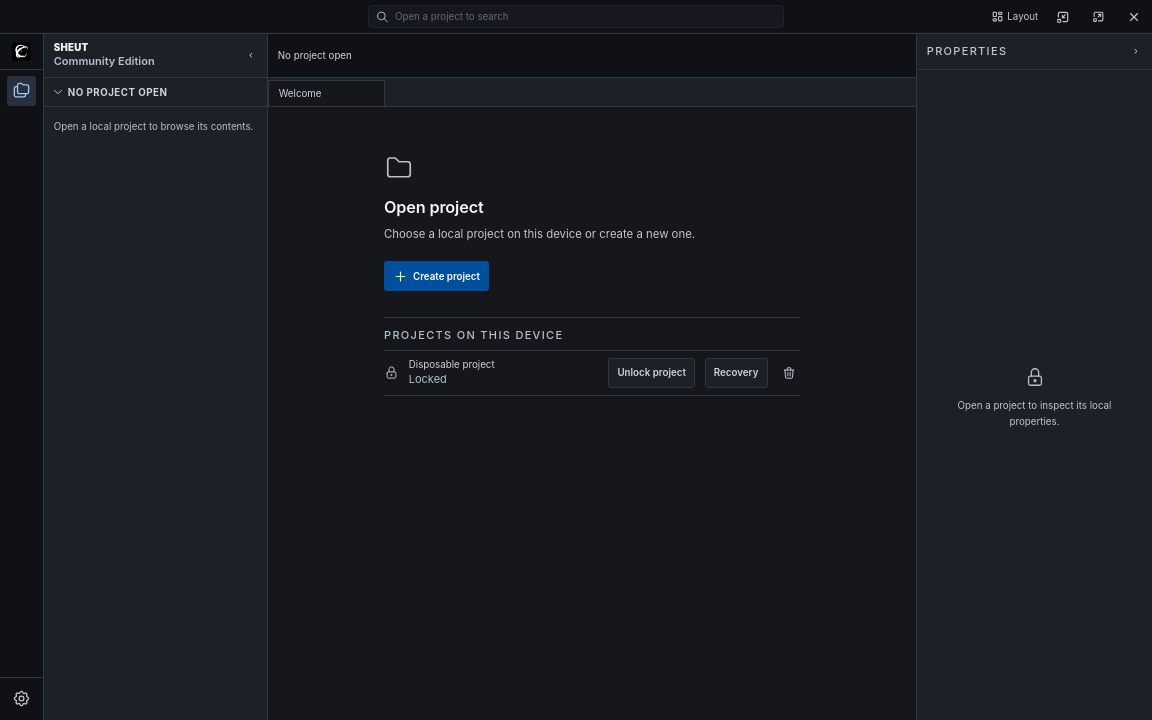
App › deletes a locked project only after its exact name is confirmed
Expected: the text "Disposable project" is shown, left=409, top=359, right=495, bottom=370
Click the button named "Delete Disposable project".
click(789, 373)  # box left=777, top=362, right=800, bottom=384
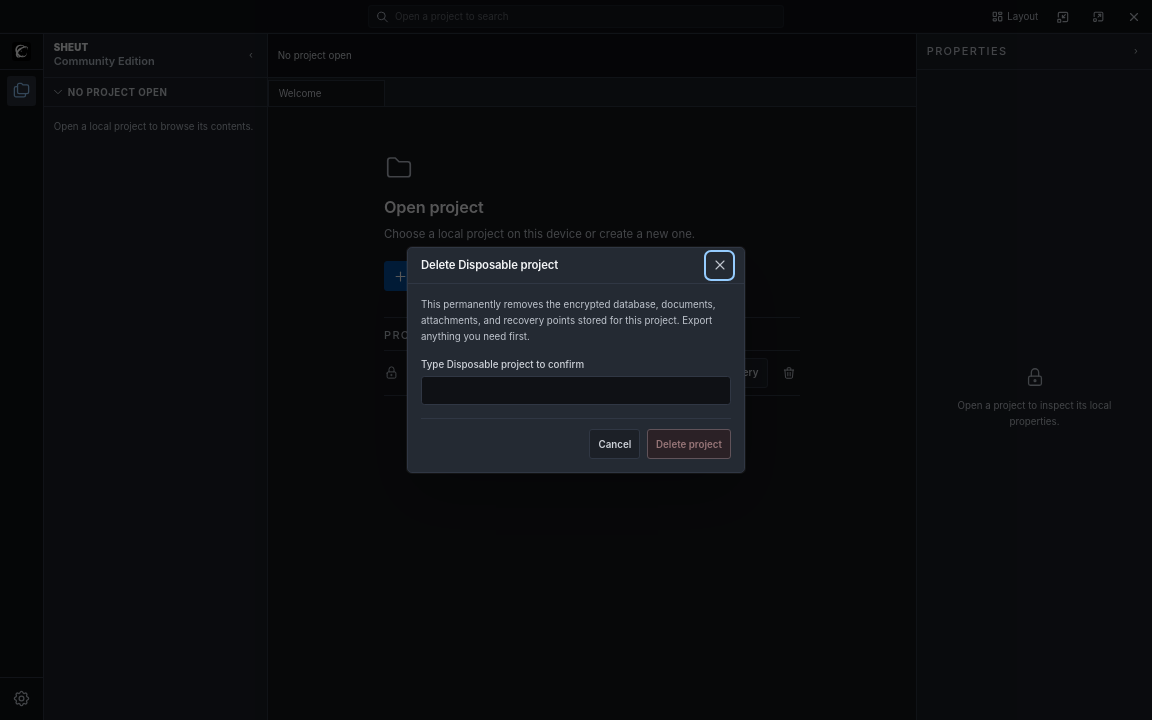
Result: the button "Delete project" is disabled at left=647, top=429, right=731, bottom=459
Type "Disposable project" into the field labelled "Type Disposable project to confirm".
click(576, 391); type("Disposable project")  # box left=421, top=376, right=731, bottom=406
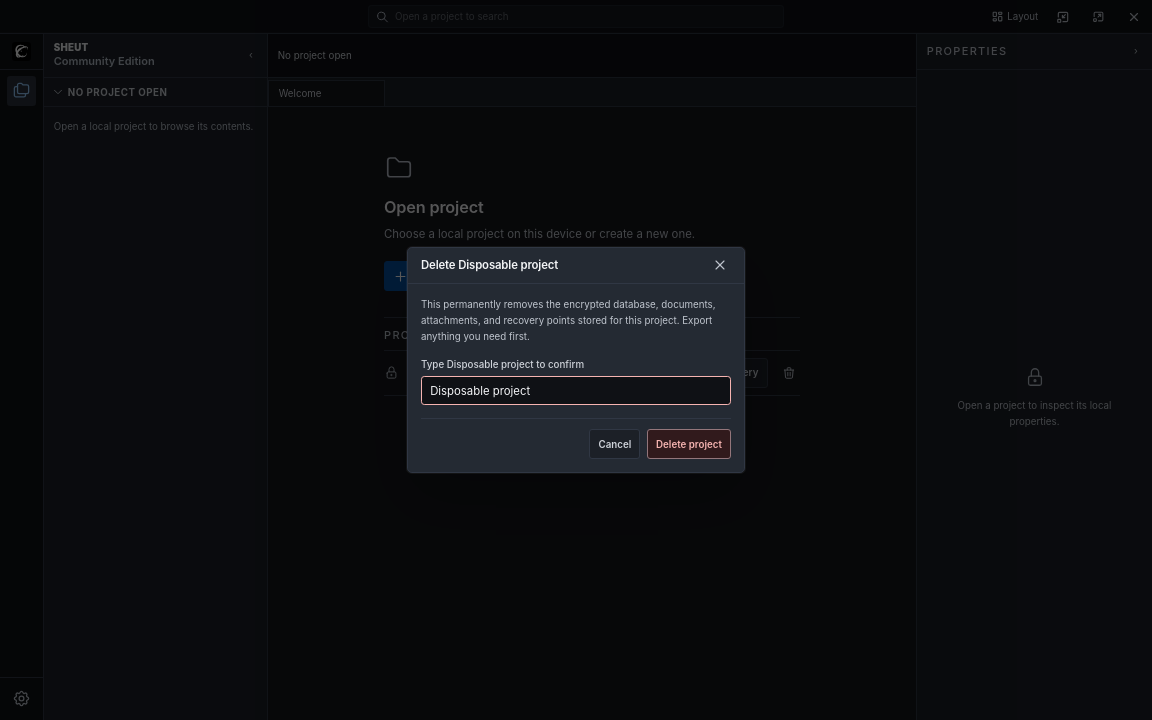
Result: the button "Delete project" is enabled
Click the button "Delete project".
click(689, 444)  # box left=647, top=429, right=731, bottom=459
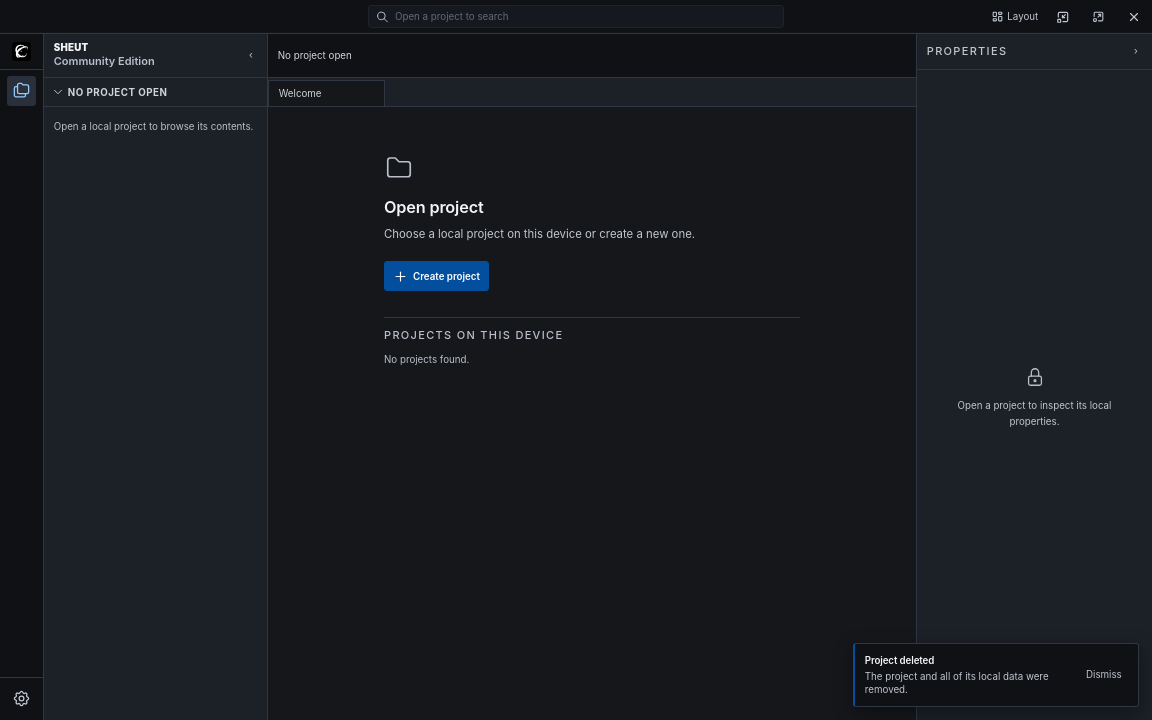
Result: the text "Disposable project" is gone
Result: the dialog "Project deleted" is shown at left=853, top=643, right=1139, bottom=707
